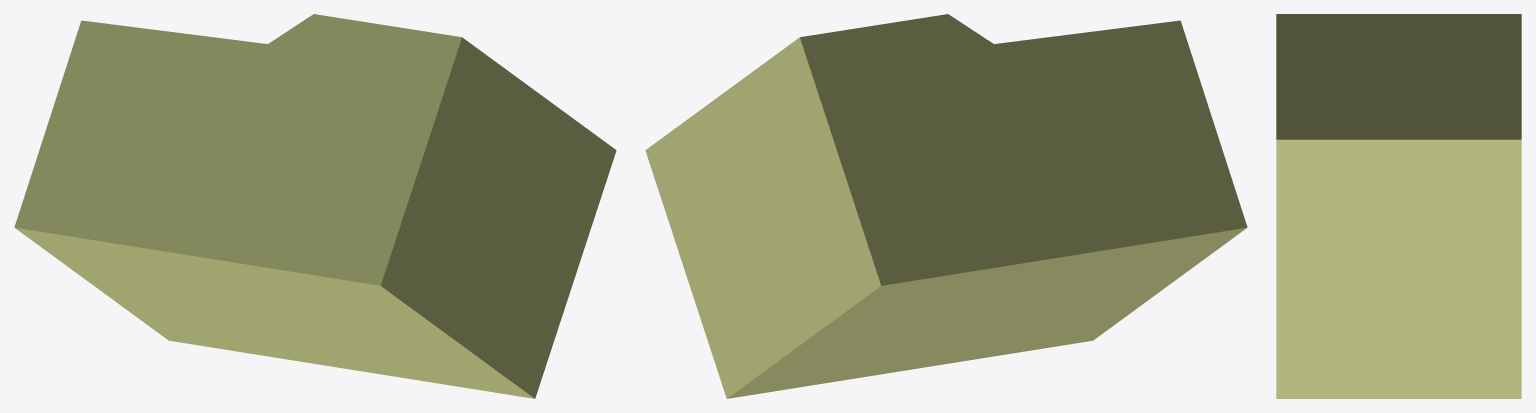
The picture shows the model from 3 angles, left to right: view 1: azimuth 30°, elevation 25°; view 2: azimuth 150°, elevation 25°; view 3: azimuth 270°, elevation 25°; orthographic projection. The views are drawn at different scales.
Parts seen in each view (by area): view 1: 0_0_1_3_1_2_0_1_1_2; view 2: 0_0_1_3_1_2_0_1_1_2; view 3: 0_0_1_3_1_2_0_1_1_2.
Part boxes in pixels (left/top/right/bottom): 0_0_1_3_1_2_0_1_1_2: left=14, top=14, right=616, bottom=398; 0_0_1_3_1_2_0_1_1_2: left=645, top=14, right=1247, bottom=398; 0_0_1_3_1_2_0_1_1_2: left=1276, top=14, right=1521, bottom=398.
Size of the model in its own units: 15.06 by 10.88 by 9.
